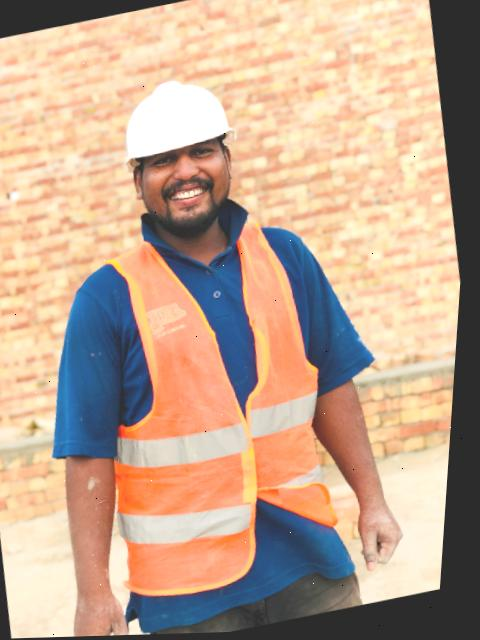helmet: (98, 49, 245, 173)
vest: (67, 197, 378, 605)
